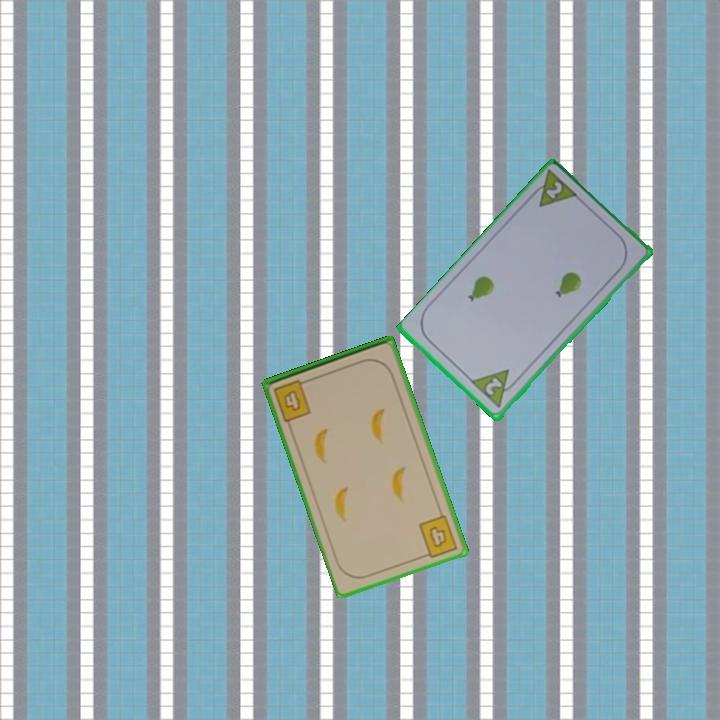2p: (525, 167, 581, 211), (481, 374, 505, 399)
4b: (415, 511, 460, 561), (270, 375, 314, 425)
